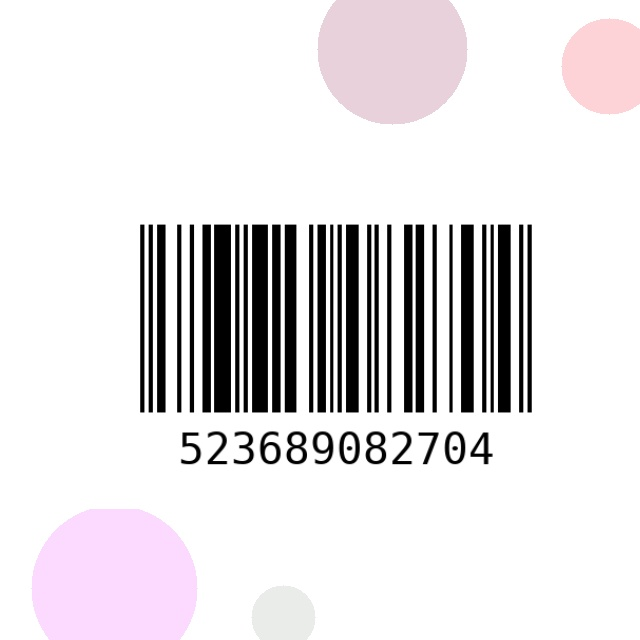barcode: (60, 213, 612, 509)
